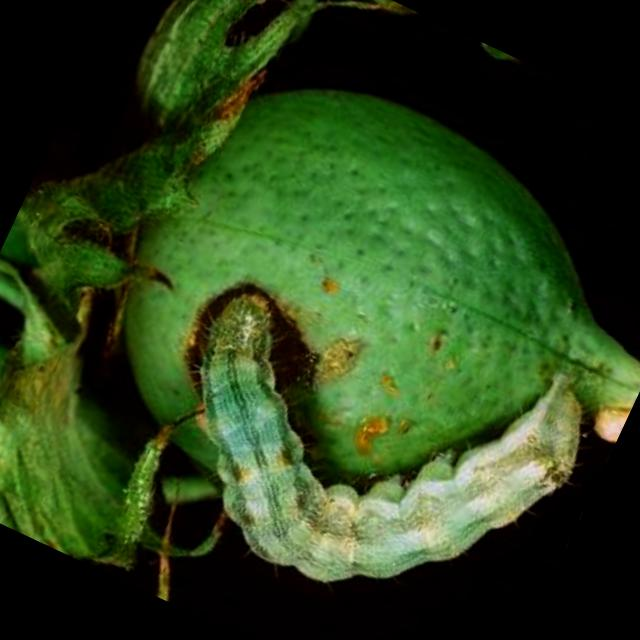Cotton bollworm: (119, 226, 613, 640)
